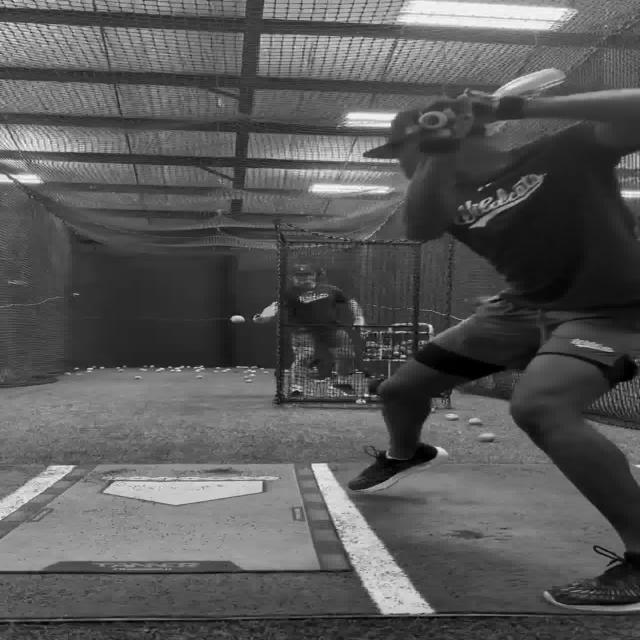baseball: (477, 432, 495, 442), (230, 315, 244, 323), (444, 412, 458, 420), (467, 418, 481, 423), (355, 398, 366, 404)
bat: (500, 64, 568, 97)
shoe: (542, 546, 638, 614), (346, 442, 448, 492), (285, 384, 304, 400)
